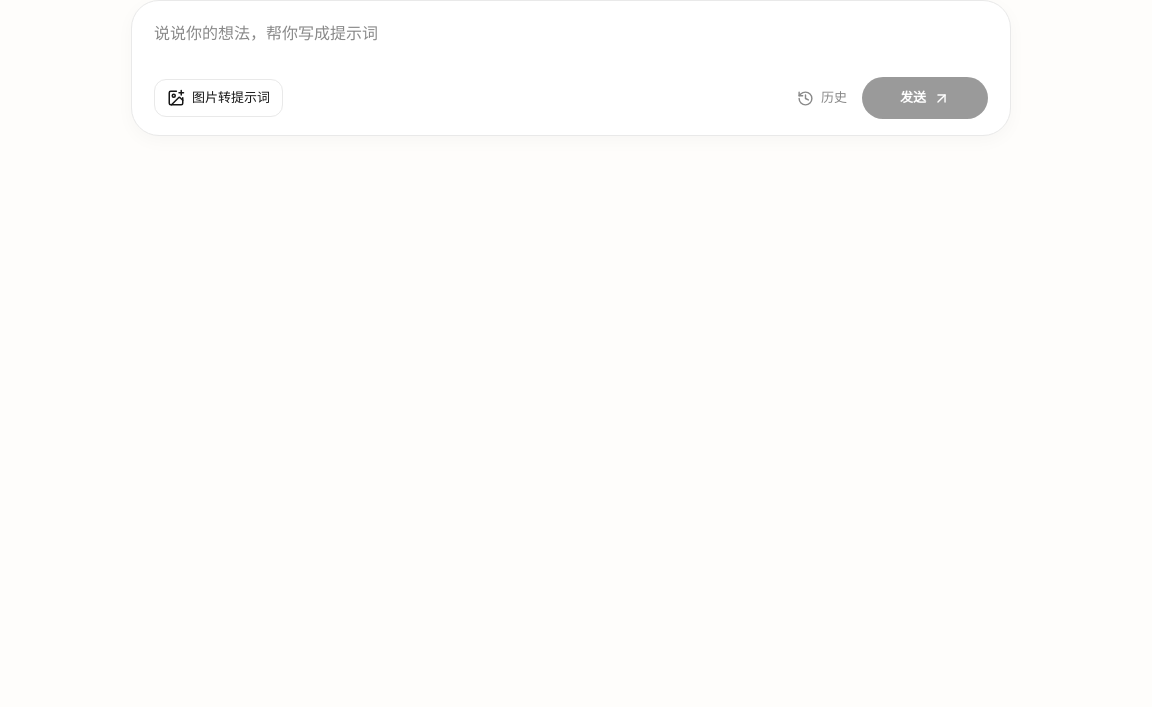
Test: real same-page creative workspace › cannot discard an edit while its save is pending
The width and height of the screenshot is (1152, 707).
Click the button "历史" at (822, 98), box [794,80,850,116]
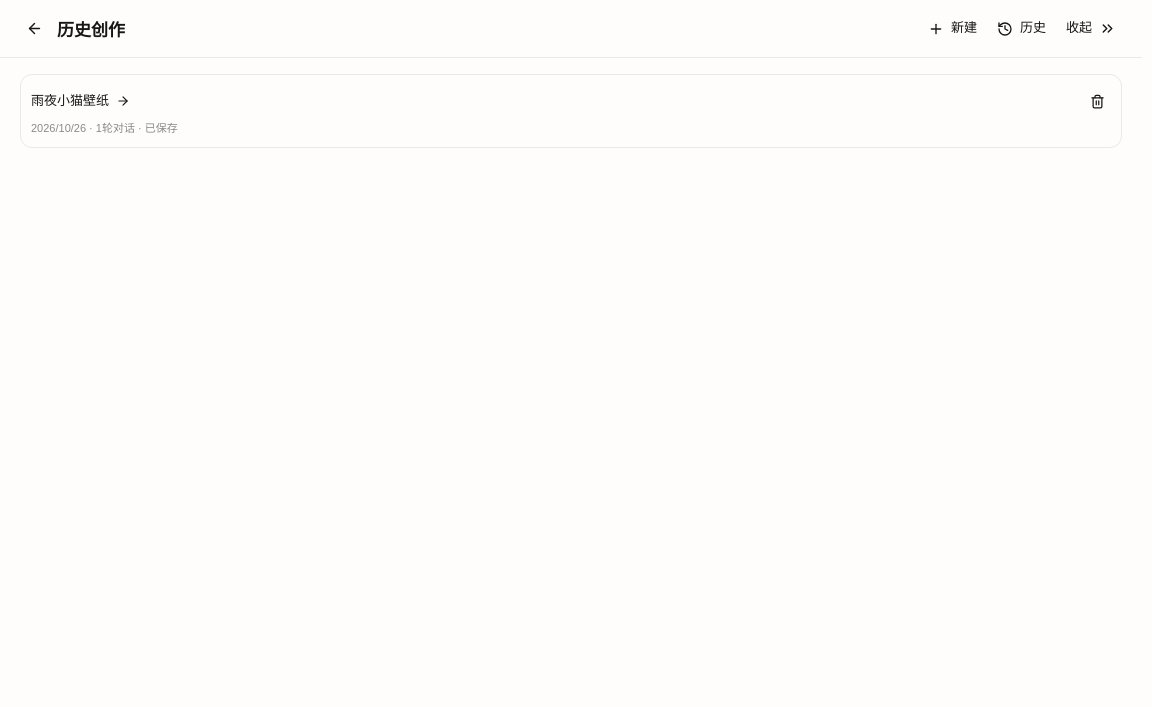
Click the button "雨夜小猫壁纸" at (70, 100), box [31,84,1076,117]
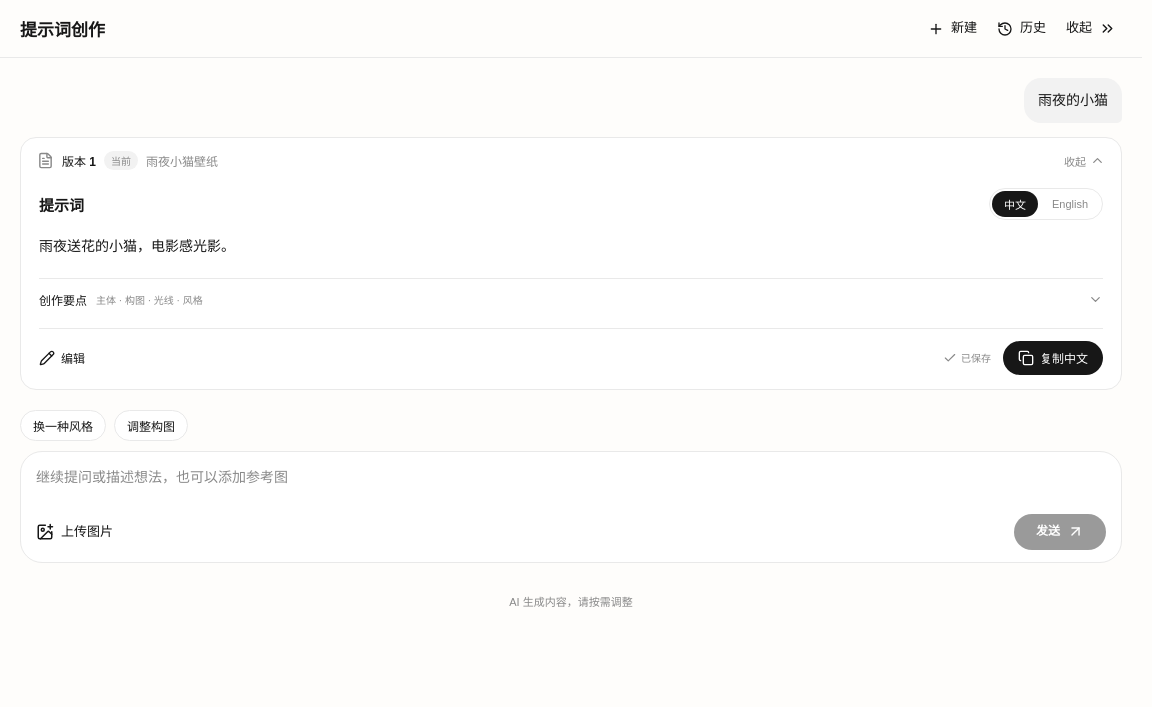
Expected: the text "雨夜送花的小猫，电影感光影。" is shown, [39,238,235,254]
Click the button "编辑" at (62, 358), box [39,341,85,375]
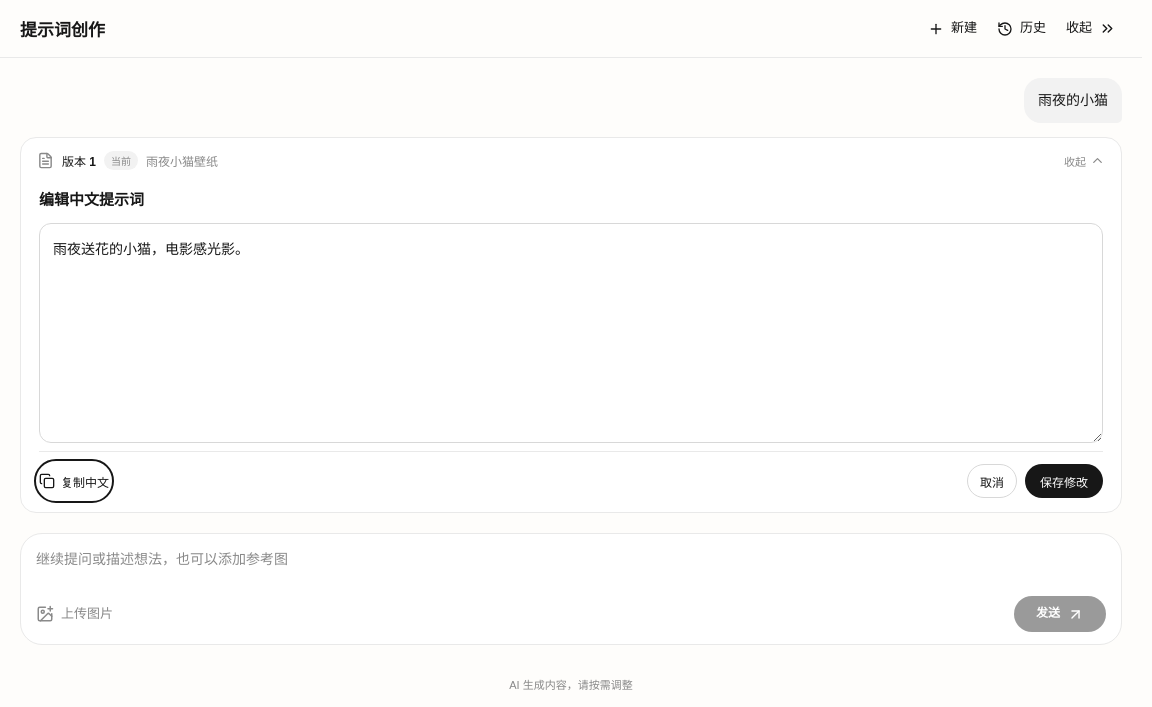
Replace the text in the text box named "编辑中文提示词" with "正在保存的修改" at (571, 333), box [39,223,1103,443]
Click the button "历史" at (1022, 28), box [991,10,1052,46]
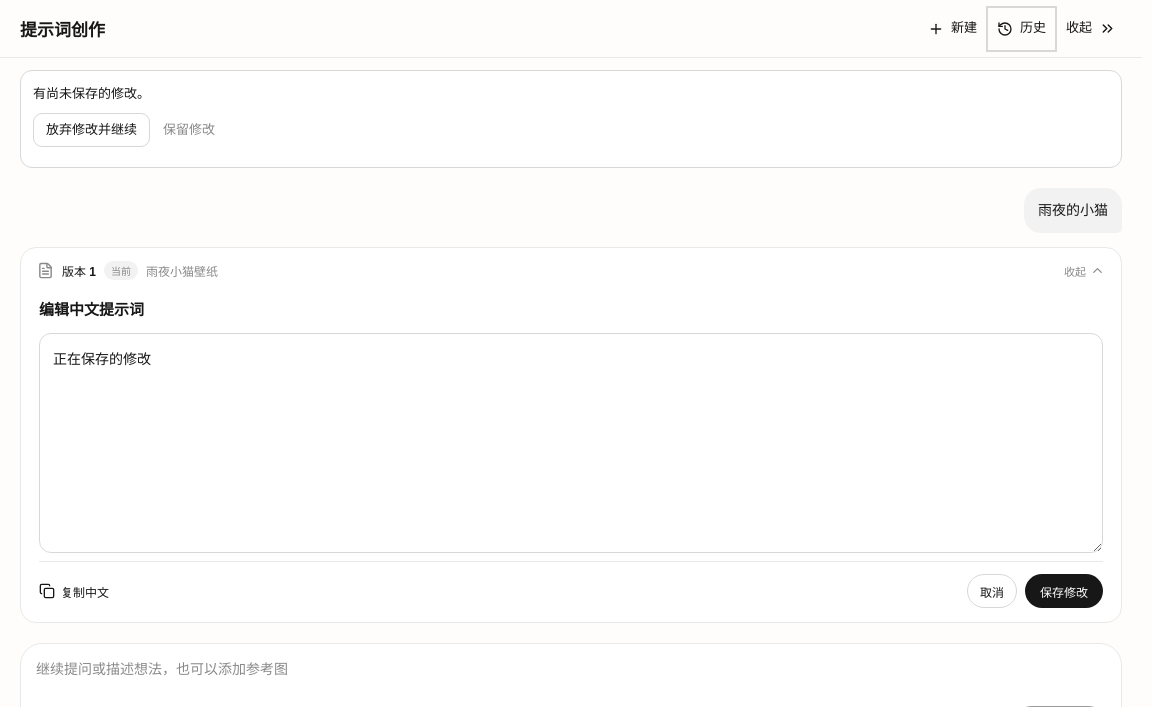
Click the button "保存修改" at (1064, 591), box [1025,574,1103,608]
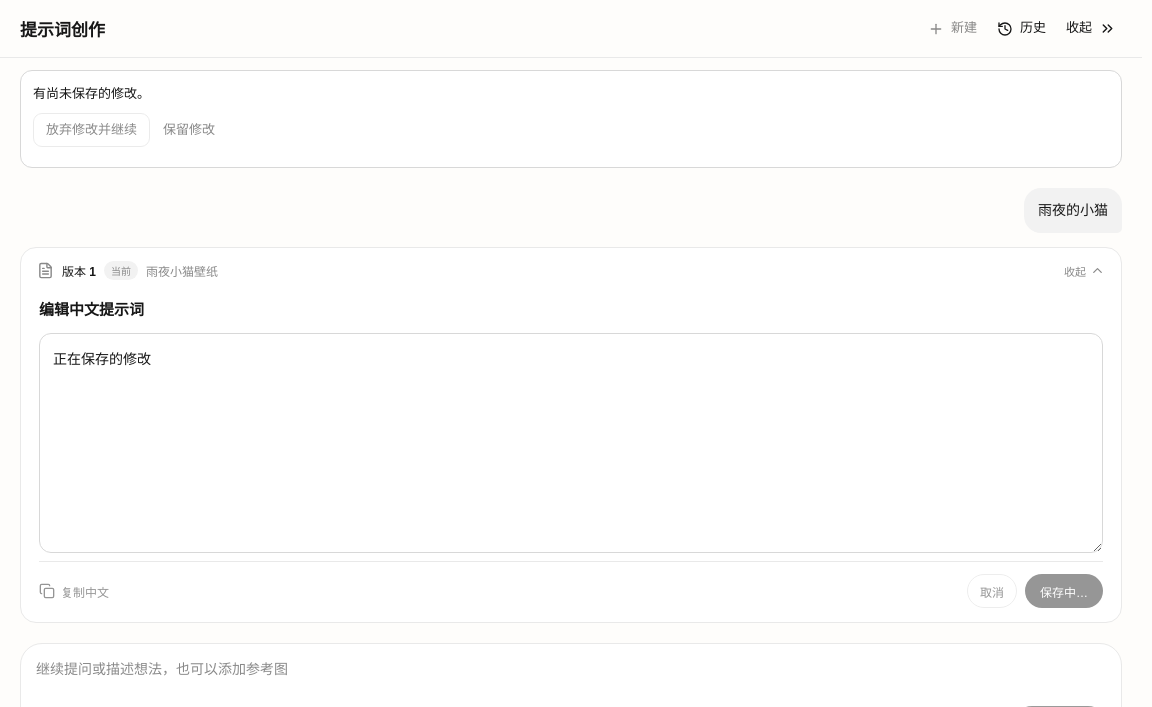
Expected: the button "放弃修改并继续" is disabled, [33,113,150,147]
Click the button "保留修改" at (189, 130), box [160,112,218,148]
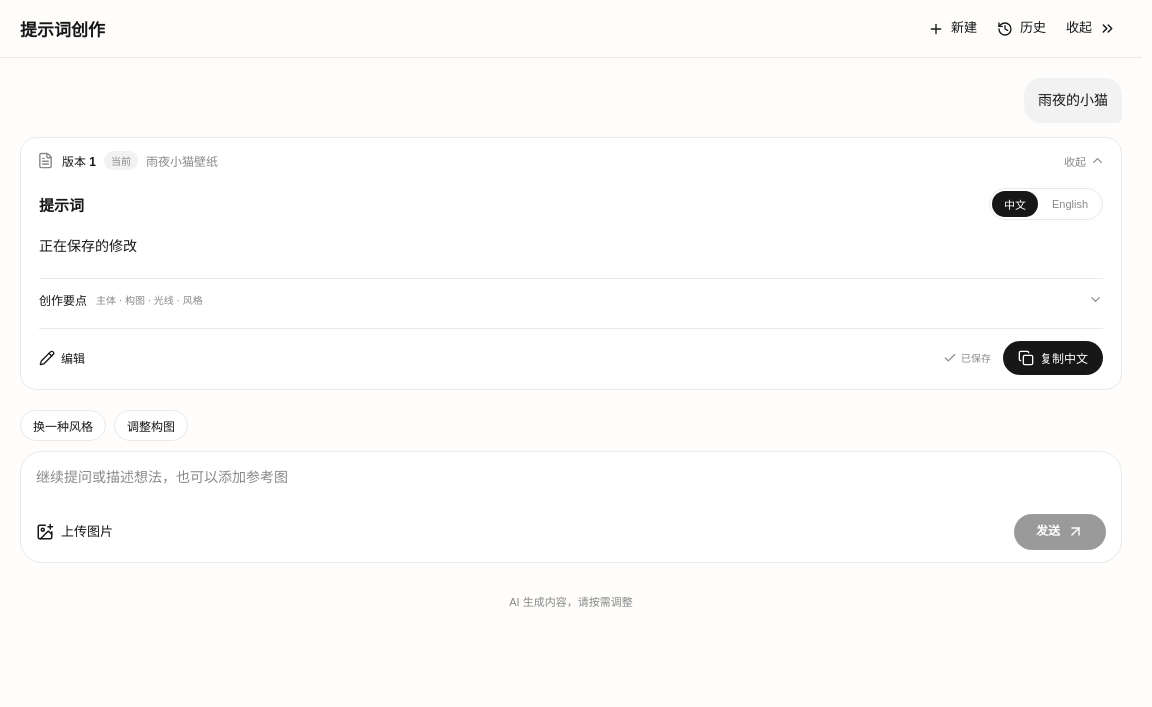
Expected: the text "正在保存的修改" is shown, [39,238,137,254]
